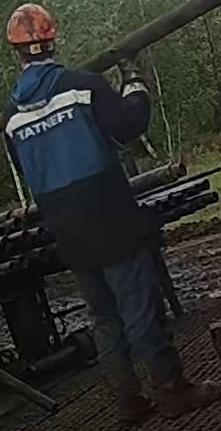gloves: (111, 47, 142, 91)
helmet: (6, 3, 61, 52)
vest: (1, 61, 135, 269)
